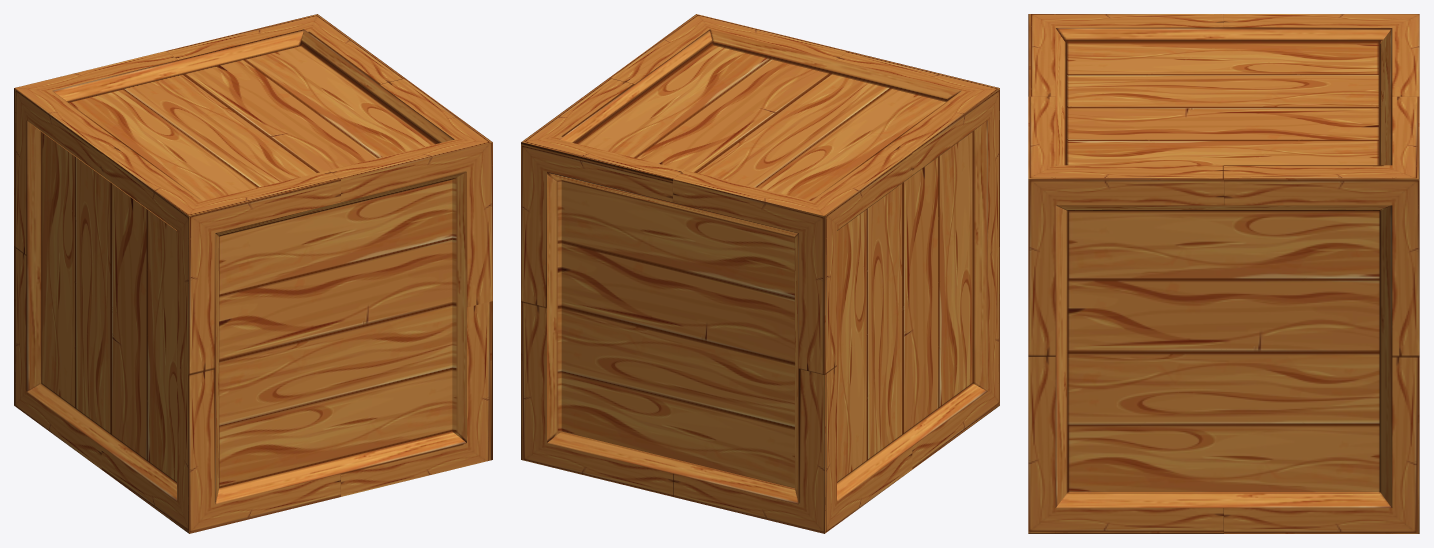
The model's file is caja.fbx.
The picture shows the model from 3 angles, left to right: view 1: azimuth 30°, elevation 25°; view 2: azimuth 150°, elevation 25°; view 3: azimuth 270°, elevation 25°; orthographic projection. The views are drawn at different scales.
Visible parts, largest first — view 1: caja normal; view 2: caja normal; view 3: caja normal.
Boxes of the visible parts, x1,y1,x2,y2 form: caja normal: (14, 14, 492, 533); caja normal: (521, 14, 999, 533); caja normal: (1028, 14, 1419, 533).
Size of the model in its own units: 59.14 by 59.14 by 59.14.
